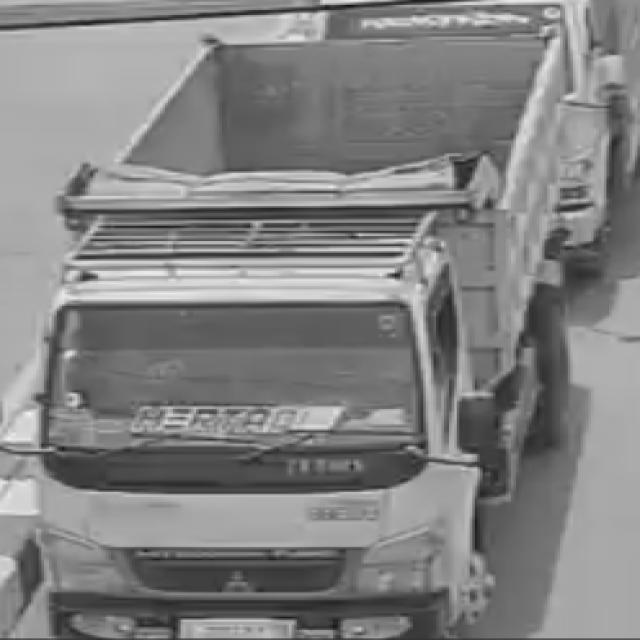Truck: (20, 36, 606, 640)
